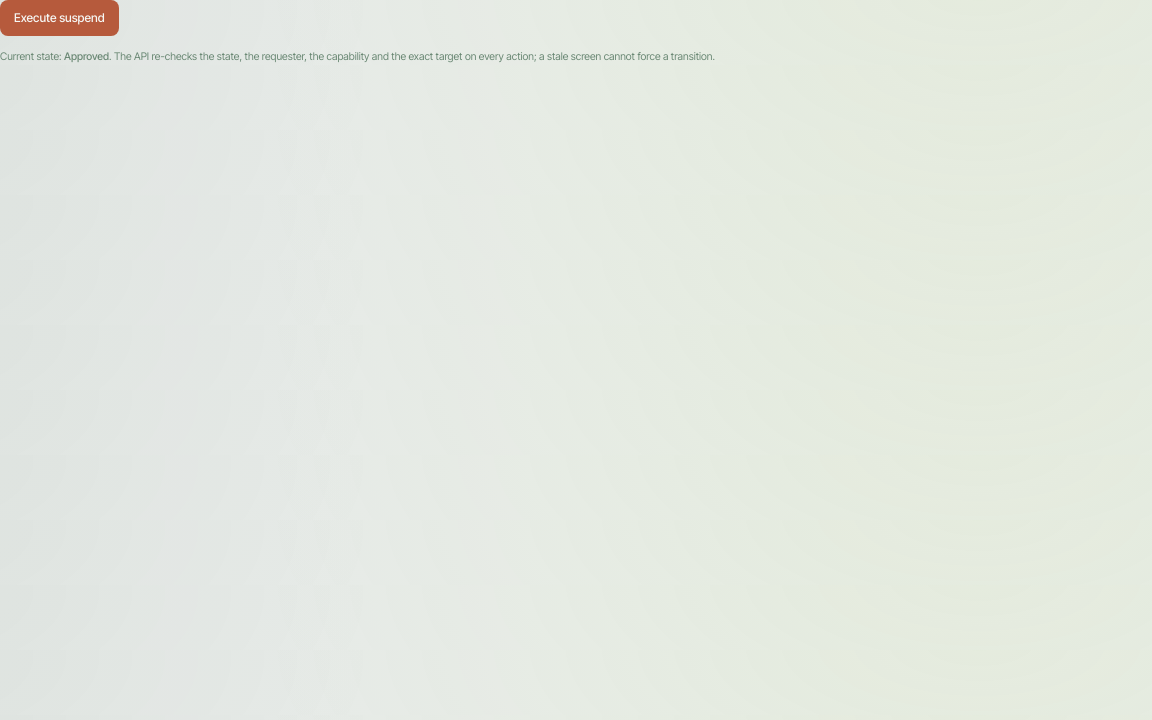
Test: approval review › confirms execution and reports the terminal result
This screenshot has width=1152, height=720.
Click the button "Execute suspend". click: (59, 18)
box: [0, 0, 119, 36]
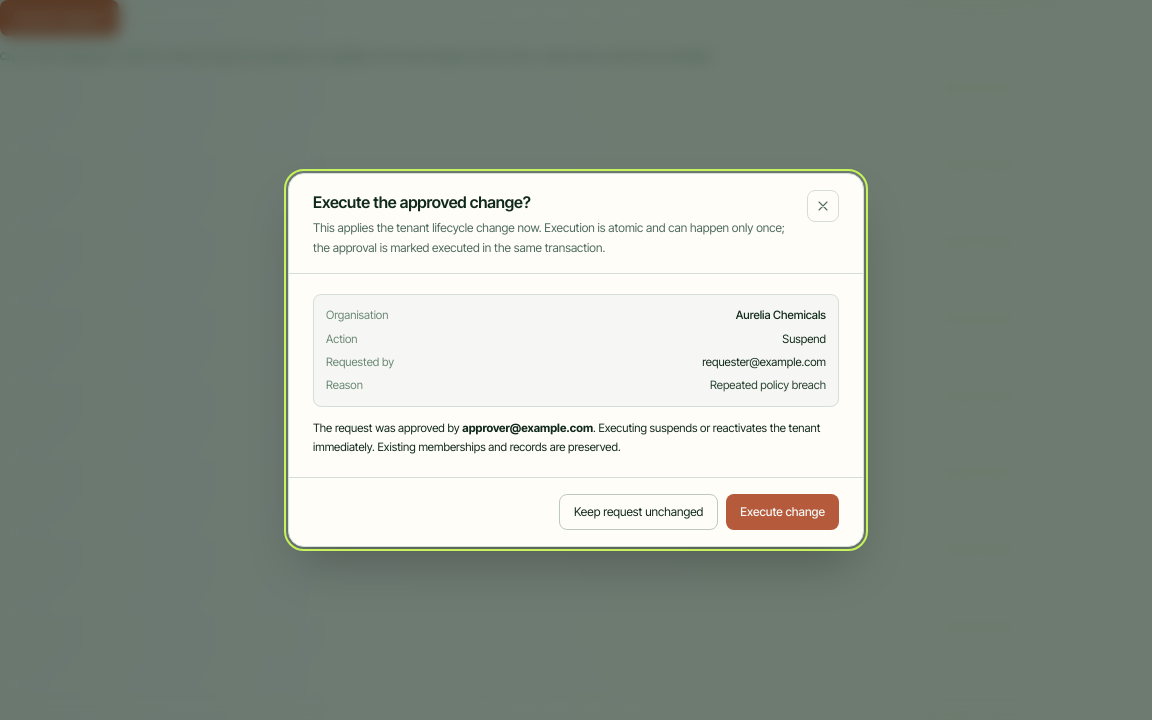
Now the text "approved by" is shown, box [313, 421, 462, 435]
Click the button "Execute change". click: (783, 512)
box: [726, 494, 839, 530]
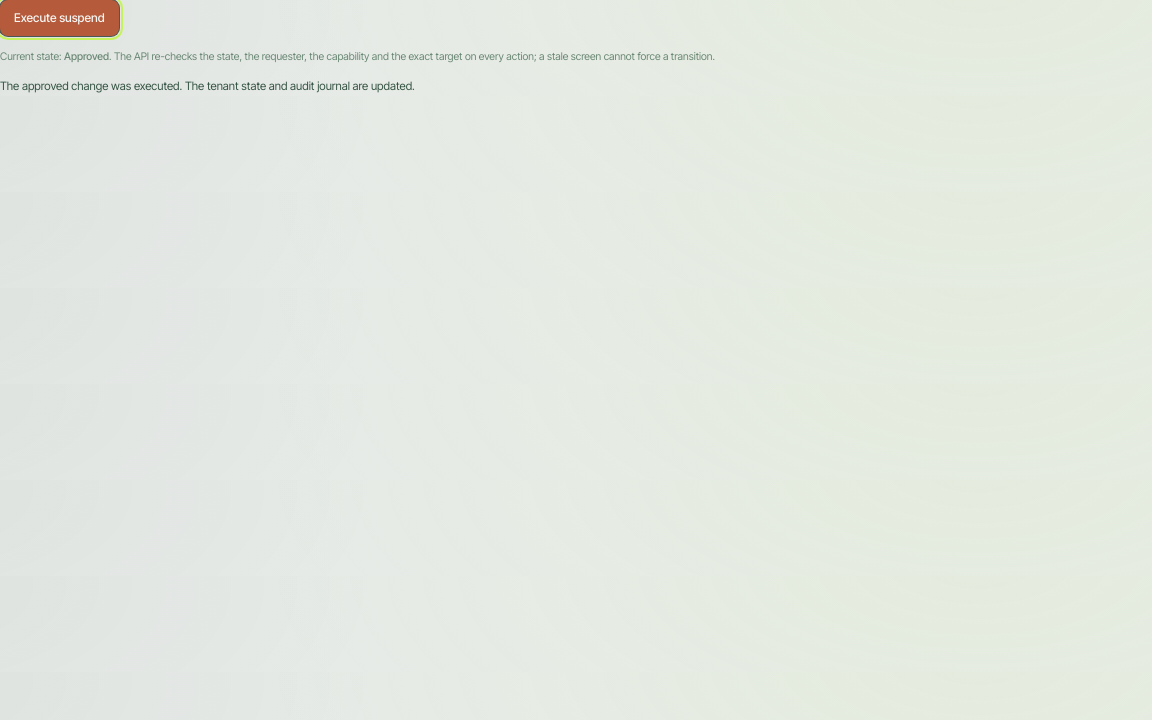
Now the message shows "was executed", box [0, 79, 415, 93]
